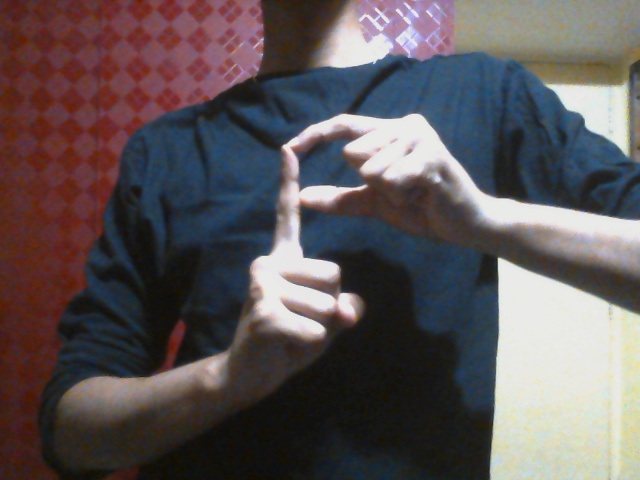P: (225, 108, 459, 403)
